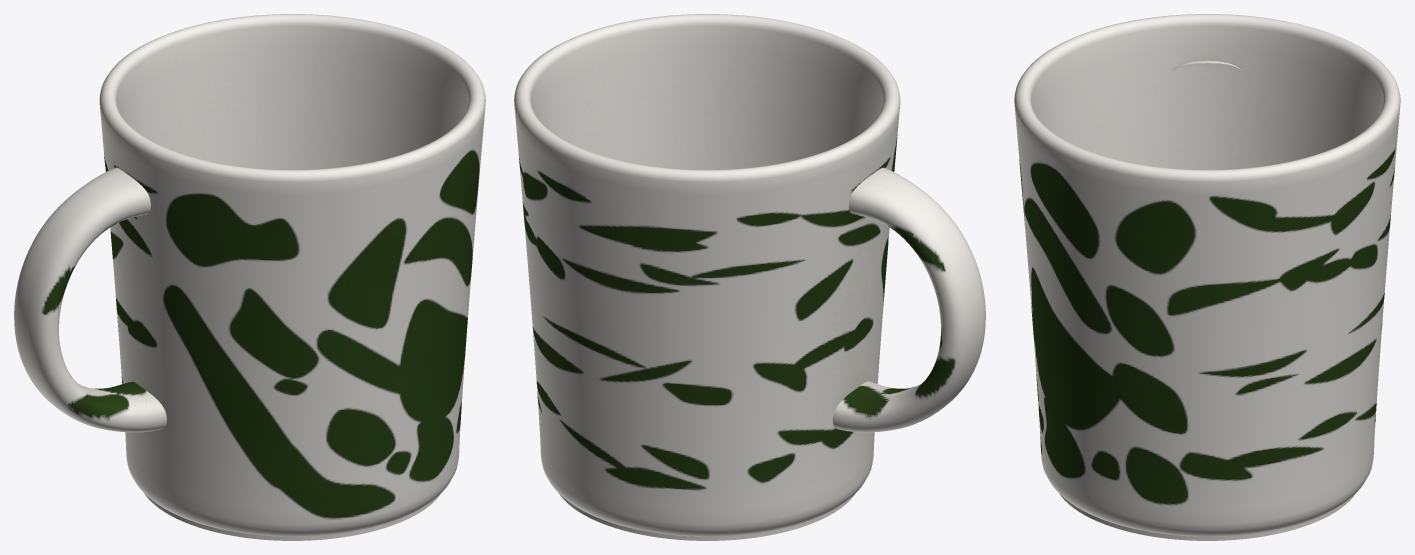
File: cangkir.glb
3 views of the same model, side by side, from view 1: azimuth 30°, elevation 25°; view 2: azimuth 150°, elevation 25°; view 3: azimuth 270°, elevation 25° (orthographic).
Visible parts, largest first — view 1: CeramicMugBody, CeramicMugHandle; view 2: CeramicMugBody, CeramicMugHandle; view 3: CeramicMugBody.
Part boxes in pixels (x1,y1,x2,y2): CeramicMugBody: (99, 14, 485, 540); CeramicMugHandle: (14, 167, 166, 432); CeramicMugBody: (514, 14, 900, 540); CeramicMugHandle: (833, 167, 985, 432); CeramicMugBody: (1014, 14, 1400, 540).
Bounding box in the file's own units: 0.1245 × 0.1046 × 0.0952.
Materials: 2 (2 with a texture image).
